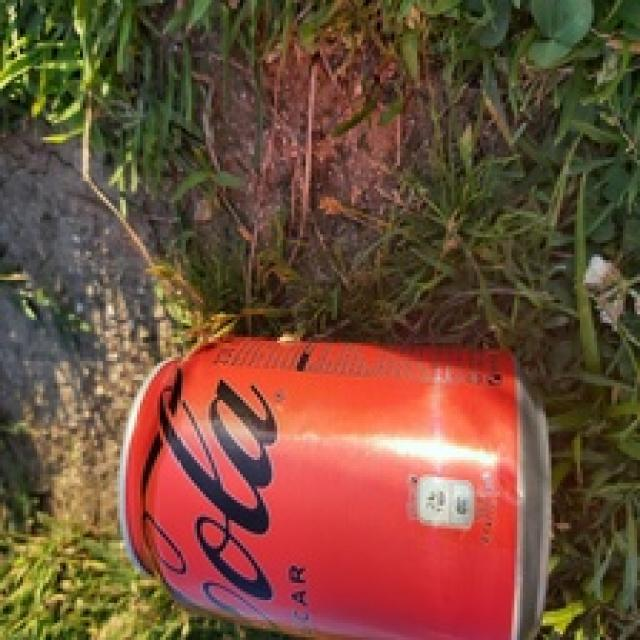recyclable: (111, 337, 552, 640)
